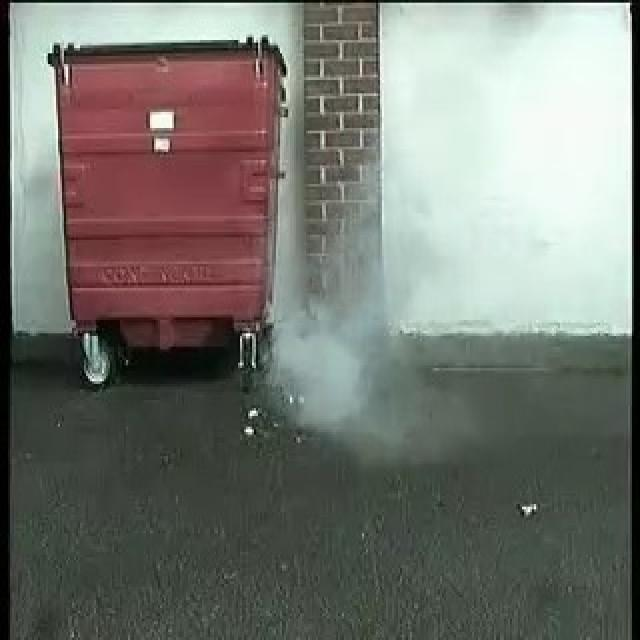smoke: (279, 222, 408, 434)
